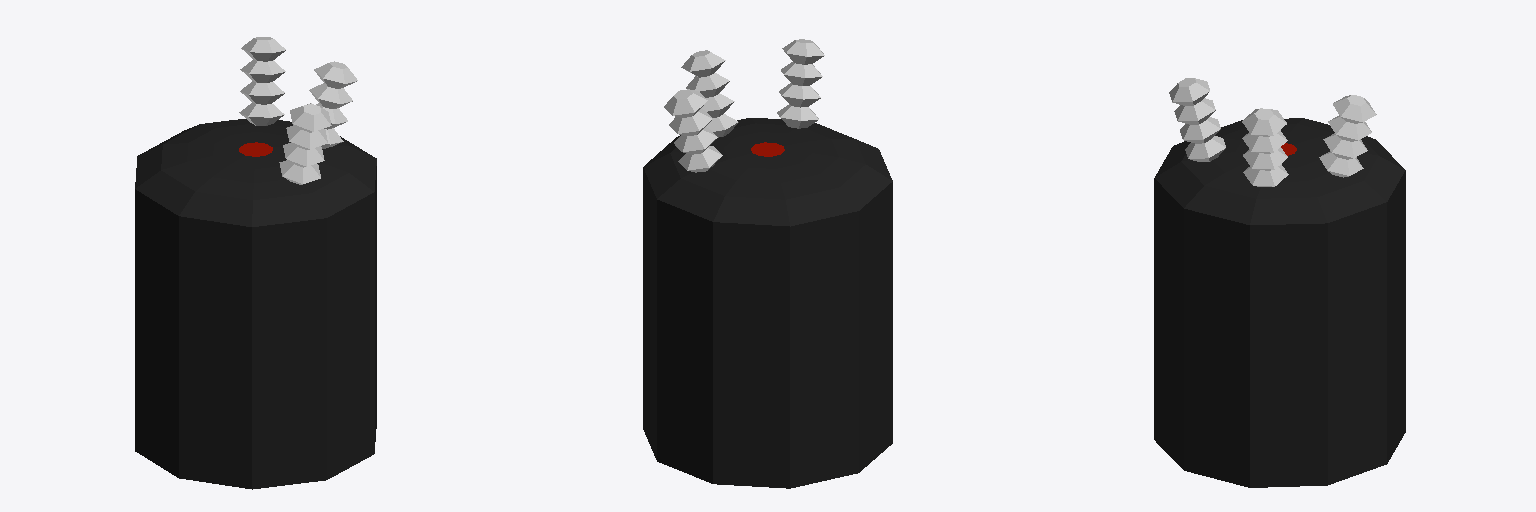
The model's file is transformer1.obj.
3 renders of one model, left to right at view 1: azimuth 30°, elevation 25°; view 2: azimuth 150°, elevation 25°; view 3: azimuth 270°, elevation 25°, orthographic.
Parts seen in each view (by area): view 1: Circle; view 2: Circle; view 3: Circle.
Boxes of the visible parts, x1,y1,x2,y2 form: Circle: [135, 37, 376, 489]; Circle: [643, 39, 892, 488]; Circle: [1154, 78, 1405, 487].
Bounding box in the file's own units: 0.5379 × 0.8741 × 0.5523.